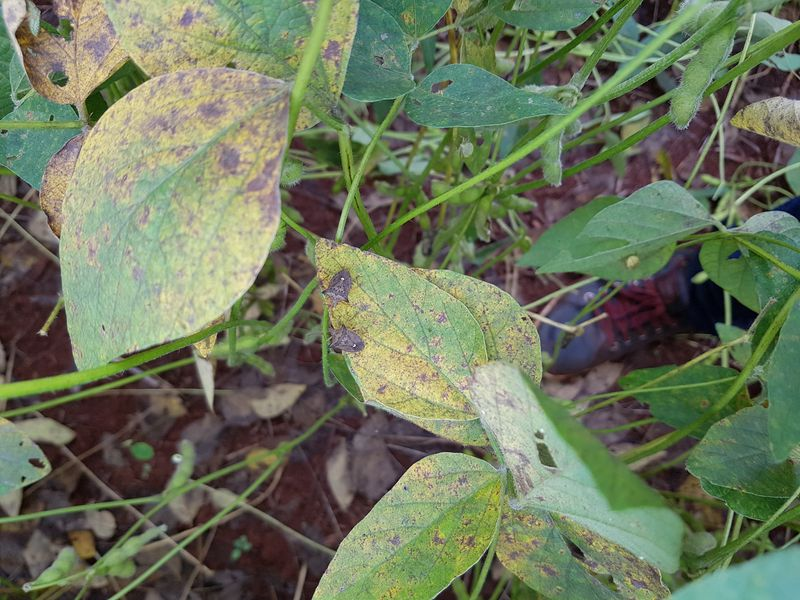Euschistus_heros_adulto: (316, 315, 370, 363), (314, 261, 359, 312)
